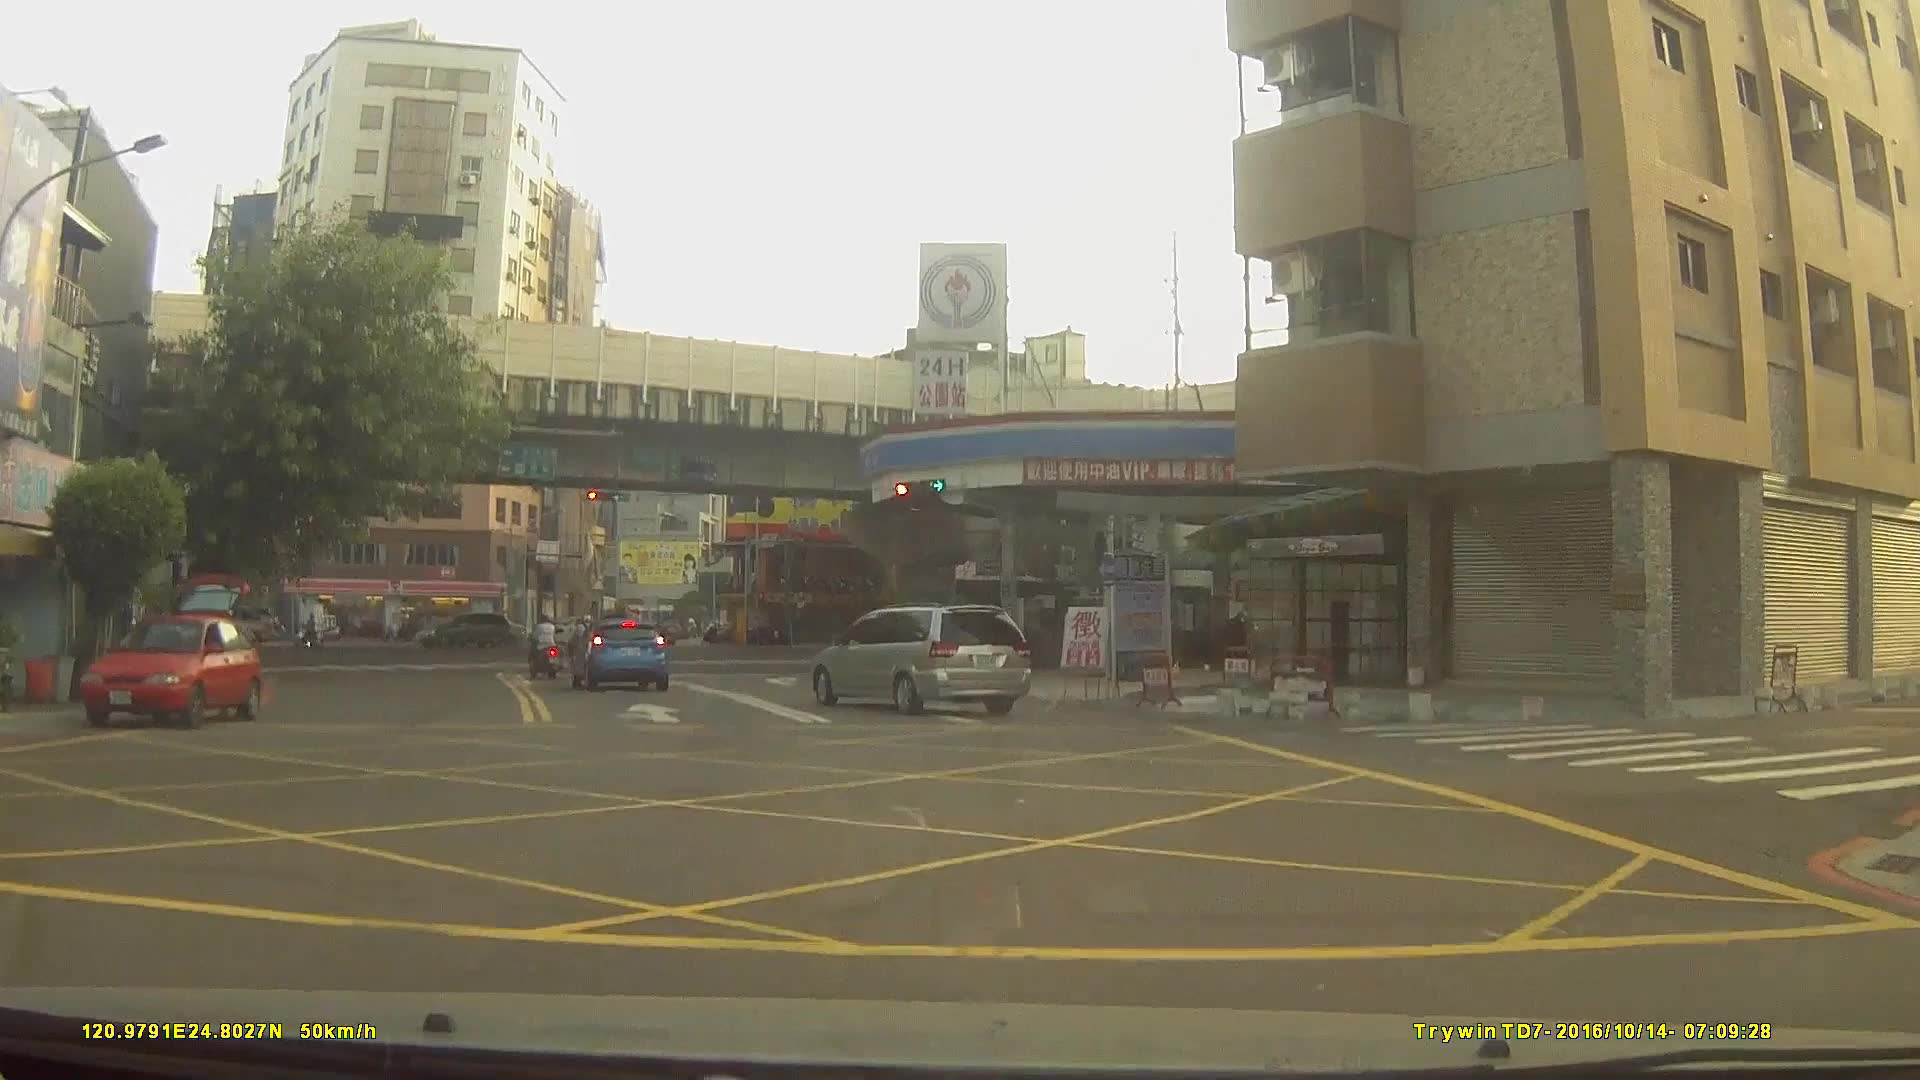rider: (526, 614, 562, 679), (294, 611, 326, 649)
vehicle: (813, 598, 1032, 712), (77, 606, 264, 727), (565, 617, 668, 693), (413, 610, 514, 648), (535, 604, 614, 640)
